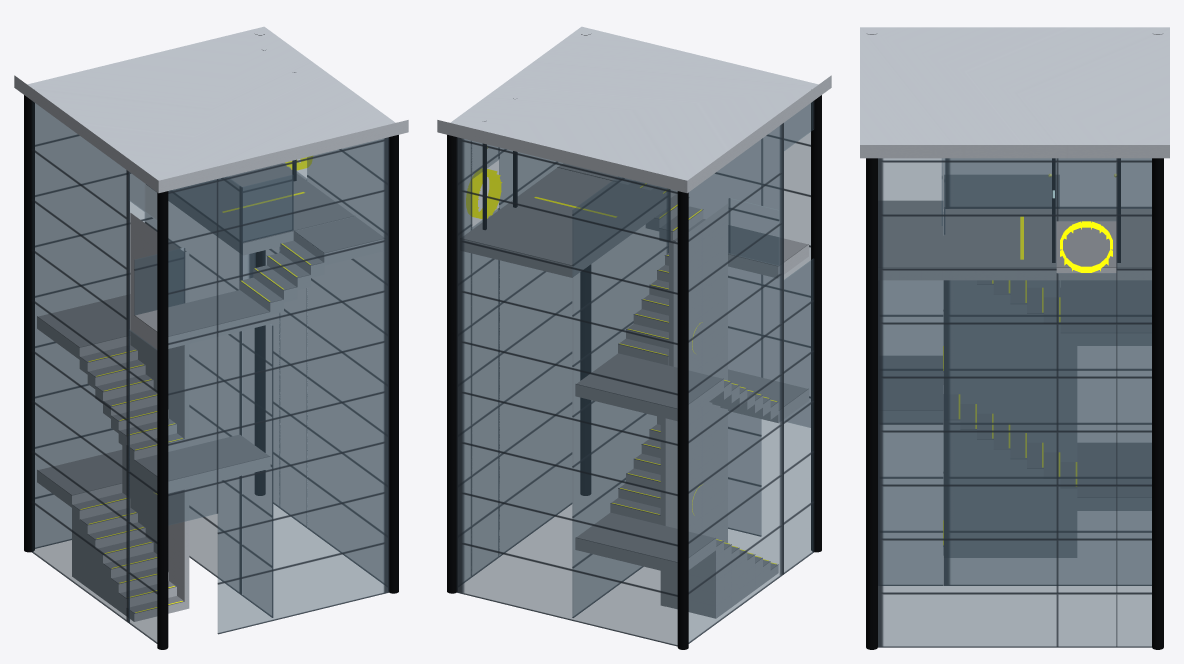
3 views of the same model, side by side, from view 1: azimuth 30°, elevation 25°; view 2: azimuth 150°, elevation 25°; view 3: azimuth 270°, elevation 25° (orthographic). The views are drawn at different scales.
Parts seen in each view (by area): view 1: Enclosure_Glass, Roof, Treads_Slate, Columns, Stair_Cast, Spine_Wall, Deck_Finish, Deck, Nosing_Emergency; view 2: Enclosure_Glass, Roof, Columns, Stair_Cast, Spine_Wall, Treads_Slate, Deck_Finish, Deck, Slide_Tube, Gate_Posts, Nosing_Emergency; view 3: Enclosure_Glass, Roof, Spine_Wall, Treads_Slate, Deck_Finish, Columns, Stair_Cast, Deck, Slide_Tube, Gate_Posts, Nosing_Emergency.
Boxes of the visible parts, x1,y1,x2,y2 form: Enclosure_Glass: [31, 101, 389, 643]; Roof: [14, 26, 408, 193]; Treads_Slate: [37, 240, 323, 613]; Columns: [24, 34, 398, 649]; Stair_Cast: [37, 244, 324, 621]; Spine_Wall: [122, 213, 189, 609]; Deck_Finish: [172, 163, 384, 253]; Deck: [168, 191, 384, 265]; Nosing_Emergency: [81, 243, 310, 612]; Enclosure_Glass: [456, 101, 814, 646]; Roof: [437, 26, 831, 193]; Columns: [447, 34, 821, 649]; Stair_Cast: [575, 184, 808, 618]; Spine_Wall: [660, 204, 727, 606]; Treads_Slate: [576, 181, 808, 569]; Deck_Finish: [463, 163, 666, 265]; Deck: [463, 167, 666, 277]; Slide_Tube: [466, 168, 501, 218]; Gate_Posts: [482, 98, 517, 229]; Nosing_Emergency: [612, 183, 776, 564]; Enclosure_Glass: [878, 158, 1151, 647]; Roof: [860, 27, 1169, 158]; Spine_Wall: [944, 175, 1076, 557]; Treads_Slate: [882, 200, 1151, 546]; Deck_Finish: [882, 209, 1151, 267]; Columns: [866, 34, 1163, 649]; Stair_Cast: [883, 217, 1151, 554]; Deck: [882, 267, 1151, 280]; Slide_Tube: [1060, 221, 1112, 272]; Gate_Posts: [1052, 158, 1120, 262]; Nosing_Emergency: [943, 280, 1076, 544].
Size of what is drawn, in the model's own units: 5.2 by 9.4 by 5.2.
Materials: 8 (4 with a texture image).
